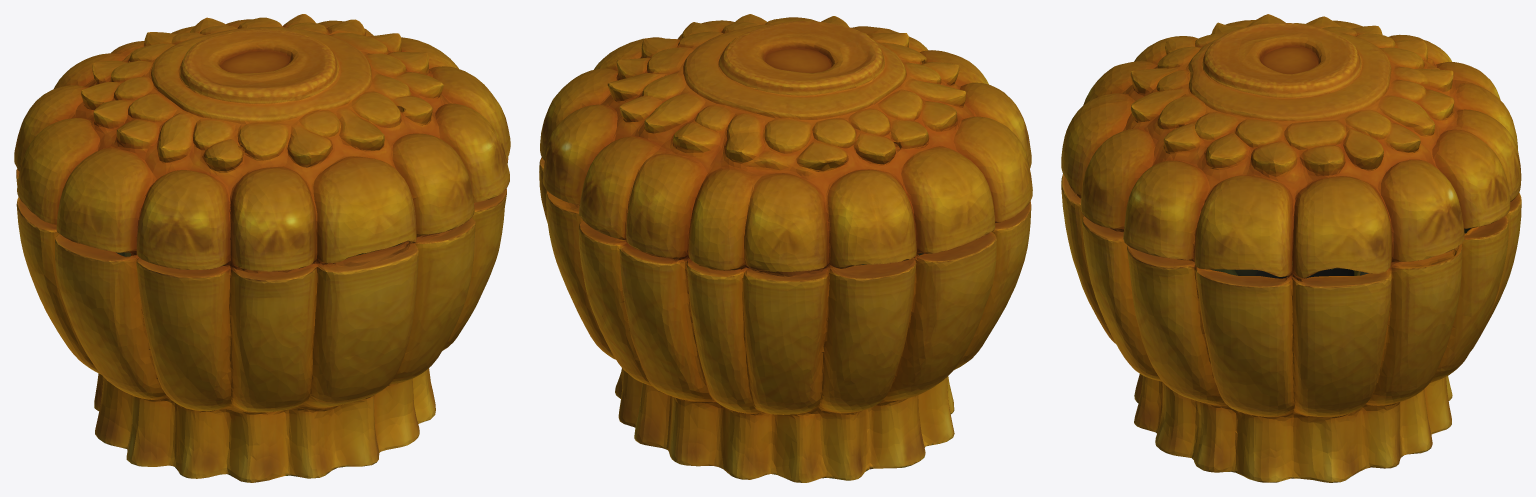
File: hop.glb
3 renders of one model, left to right at view 1: azimuth 30°, elevation 25°; view 2: azimuth 150°, elevation 25°; view 3: azimuth 270°, elevation 25°, orthographic.
Parts seen in each view (by area): view 1: world; view 2: world; view 3: world.
Boxes of the visible parts, x1,y1,x2,y2 form: world: (14,14,510,482); world: (539,14,1032,482); world: (1061,14,1521,482).
Bounding box in the file's own units: 0.9944 × 0.7914 × 0.9268.
1 material, 1 textured.
